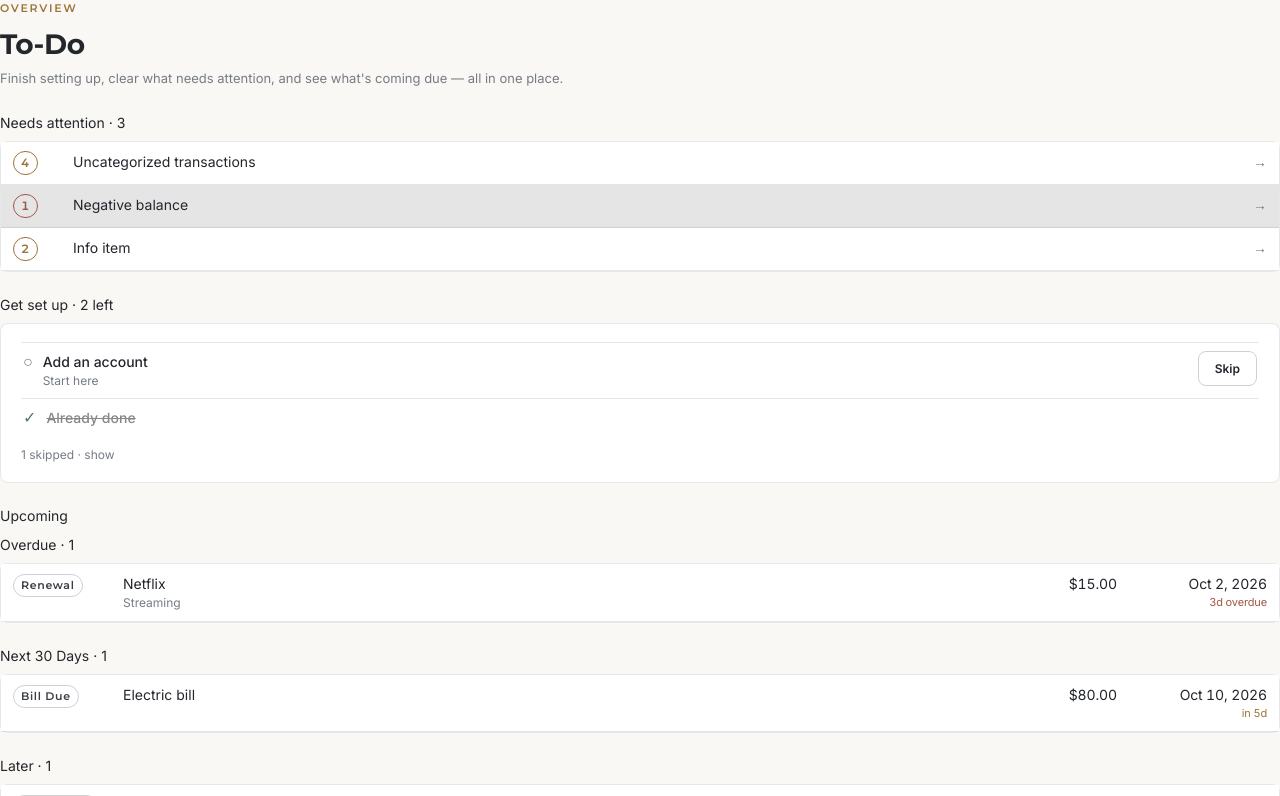
Reminders page › surfaces an error when dismiss fails
Click the button "Skip" at (1227, 368), box x1=1198 y1=351 x2=1257 y2=386
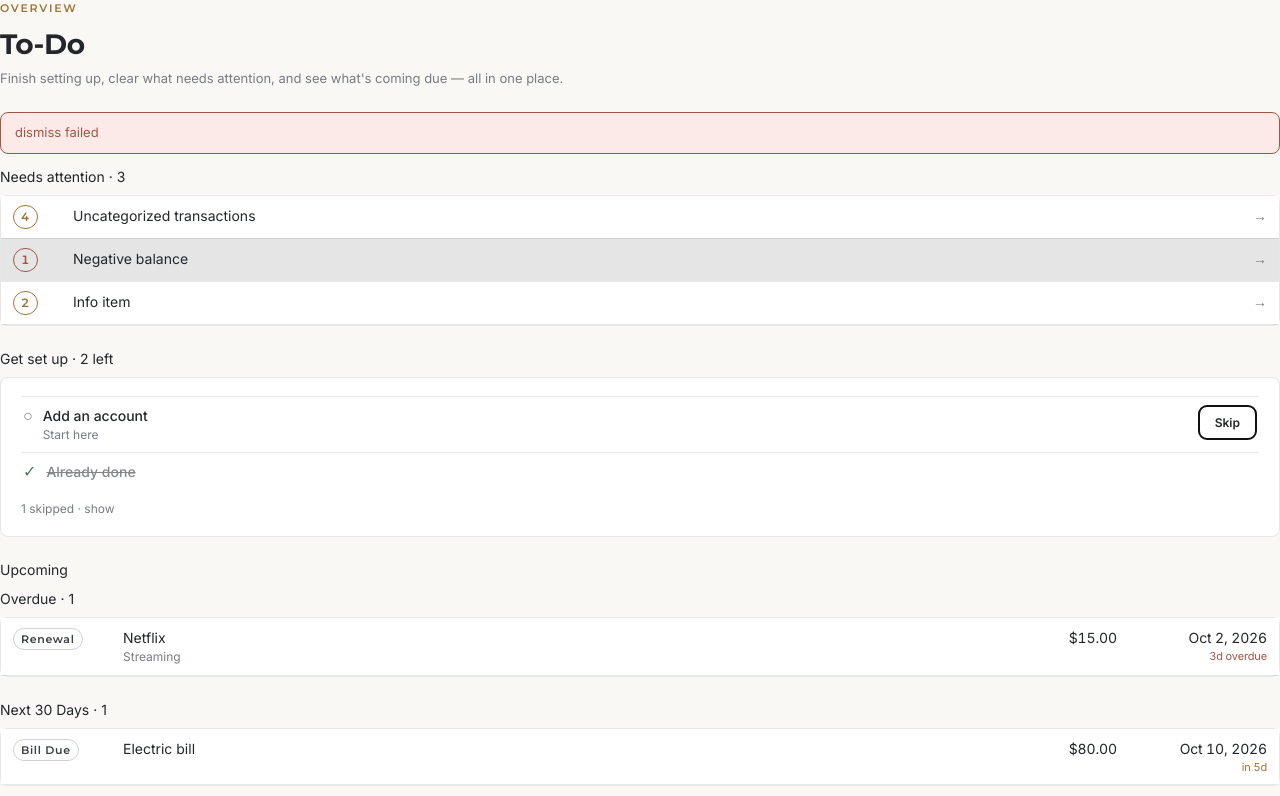
Check: the text "dismiss failed" is shown, box x1=0 y1=112 x2=1279 y2=154
